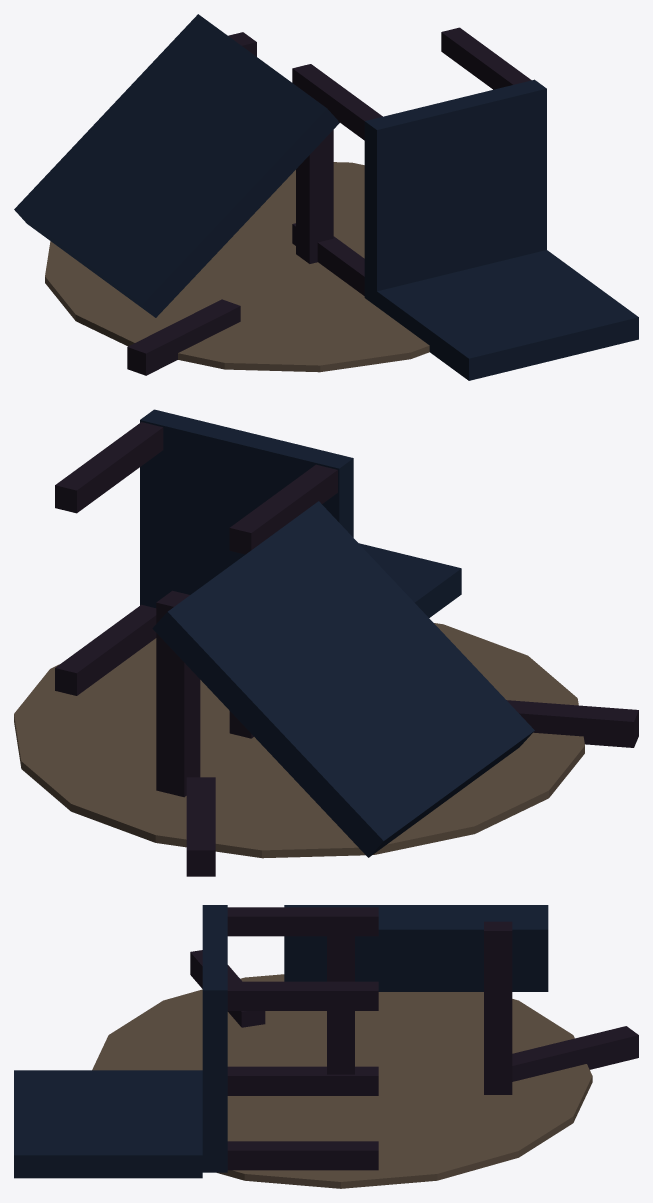
File: charred_furniture.glb
3 views of the same model, one above another, from view 1: azimuth 30°, elevation 25°; view 2: azimuth 150°, elevation 25°; view 3: azimuth 270°, elevation 25° (orthographic). The views are drawn at different scales.
Visible parts, largest first — view 1: charred_furniture; view 2: charred_furniture; view 3: charred_furniture.
Part boxes in pixels (x1,y1,x2,y2): charred_furniture: (14, 14, 638, 380); charred_furniture: (14, 409, 638, 876); charred_furniture: (14, 905, 638, 1188).
Bounding box in the file's own units: 0.8196 × 0.33 × 0.9939.
